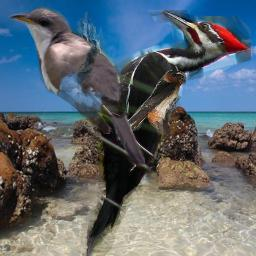Cuckoo: (7, 4, 145, 170)
Swallow: (116, 70, 186, 135)
Woodpecker: (77, 10, 251, 256)
